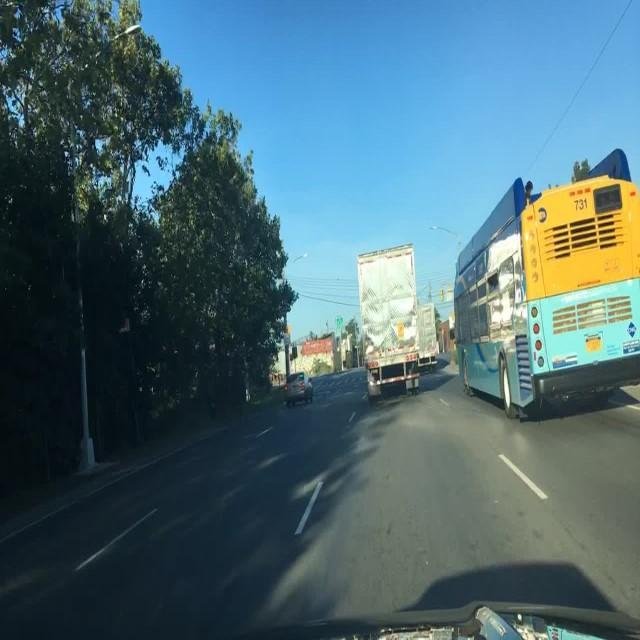normal: (451, 152, 639, 423), (355, 244, 452, 406)
